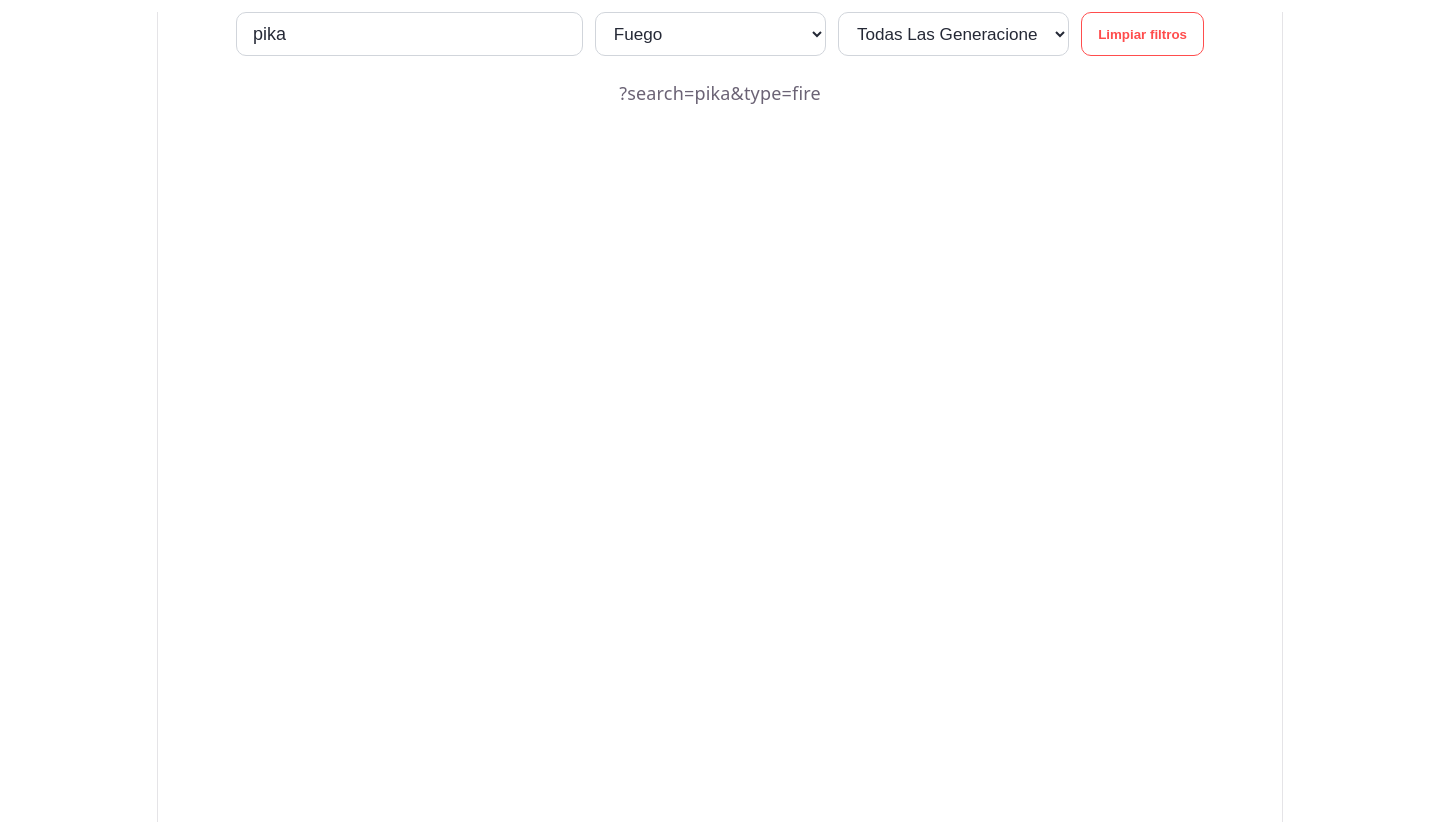
it: SearchFilter - debounce de 300ms › 'Limpiar filtros' vacía la URL y el input
Expected: the field with placeholder "Buscar Pokémon por nombre o ID" holds "pika", [236,12,583,56]
Click the button "Limpiar filtros" at {"x": 1143, "y": 34}, box [1081,12,1204,56]
Wait 300 ms
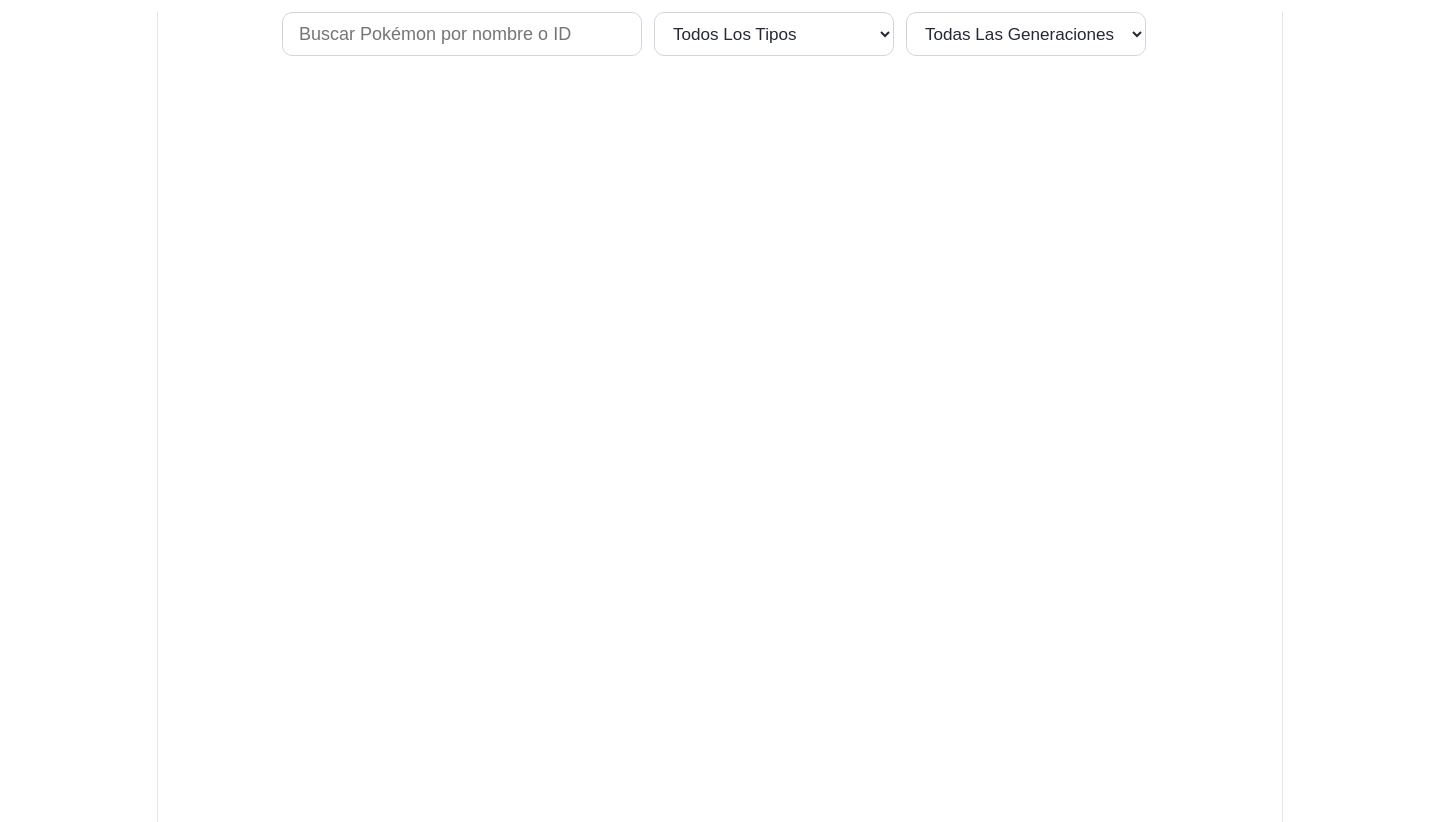
Now the field with placeholder "Buscar Pokémon por nombre o ID" is empty, box [282,12,642,56]
